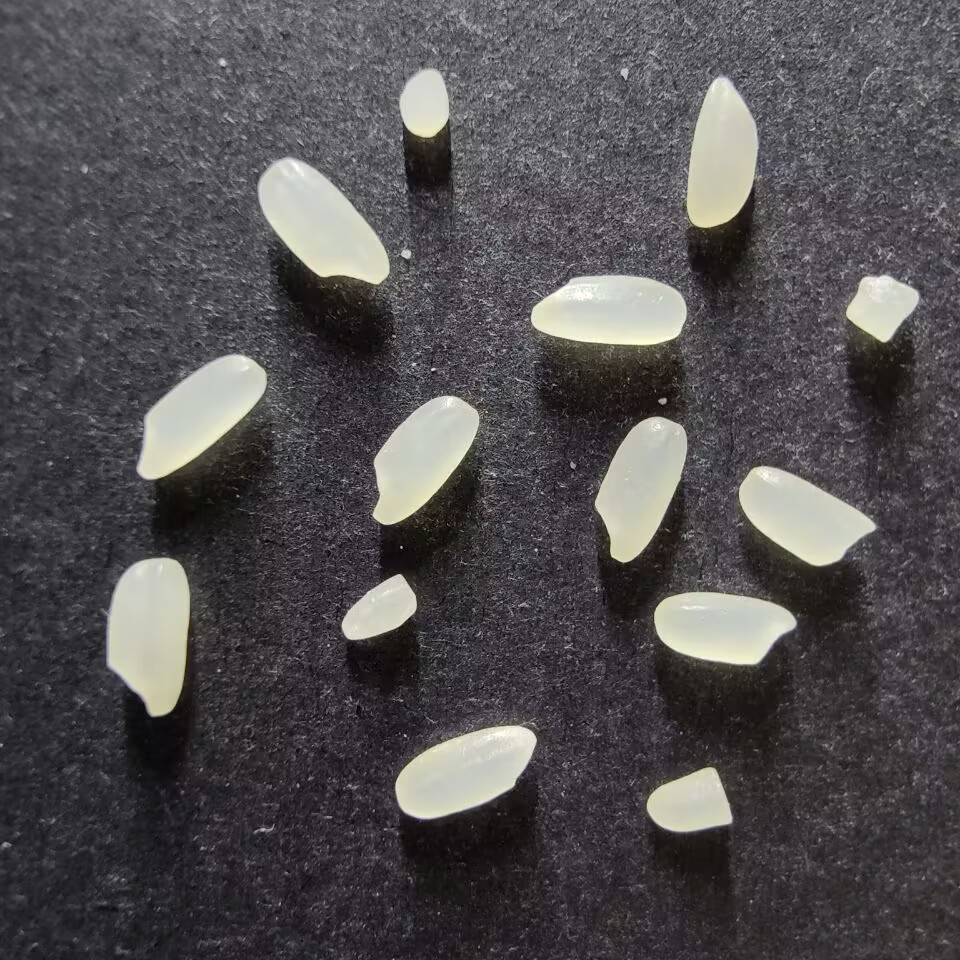broken: (645, 764, 737, 836), (338, 569, 420, 642), (844, 270, 922, 346), (398, 66, 455, 139)
rice: (254, 154, 391, 286), (134, 351, 270, 482), (368, 392, 481, 527), (736, 463, 881, 567), (590, 414, 689, 564), (102, 556, 192, 719), (392, 724, 538, 821), (683, 74, 759, 231), (528, 272, 686, 346), (653, 589, 798, 666)
